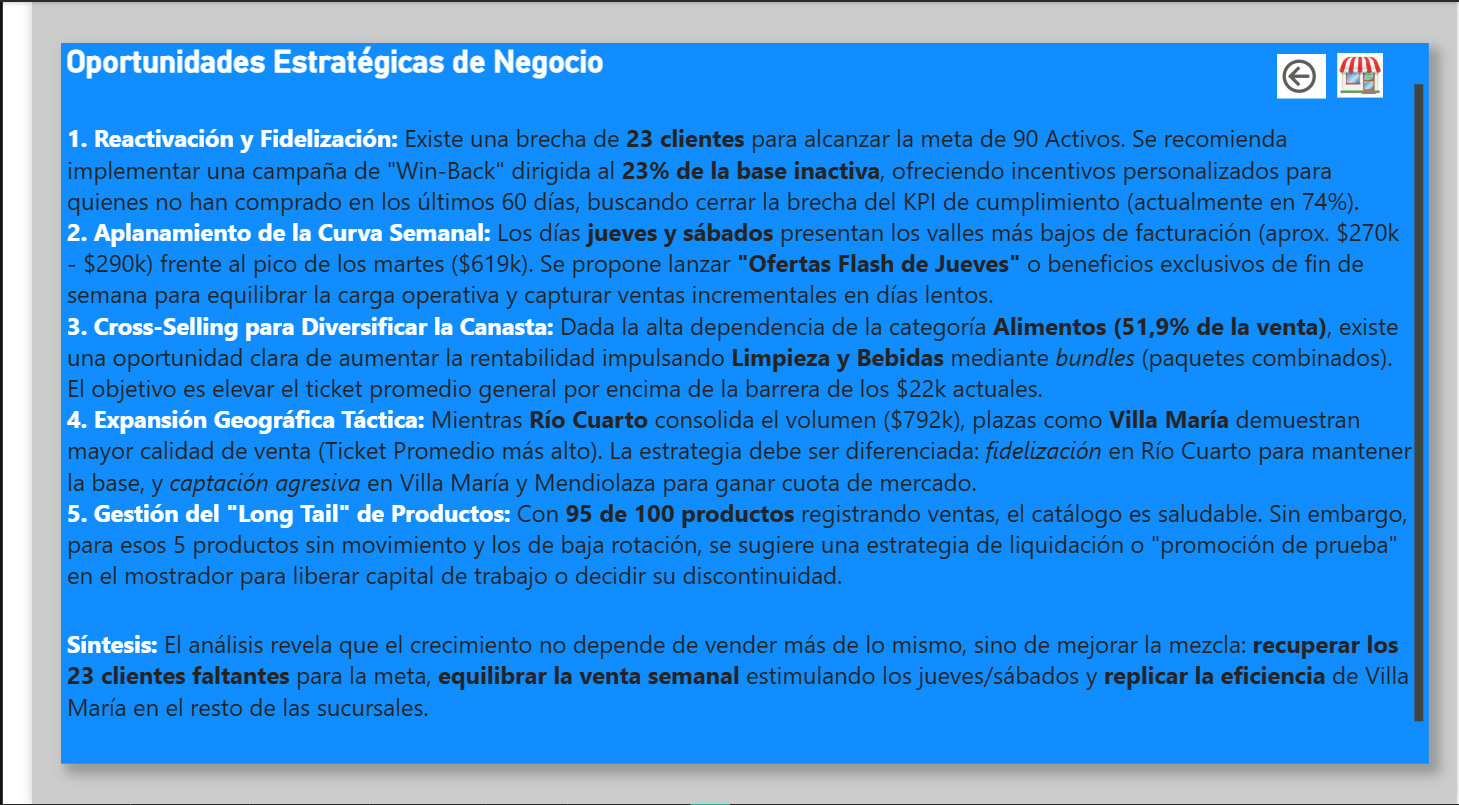

What the dashboard file says about the page in this screenshot:
{"tool":"powerbi","page":{"name":"Oportunidades","canvas":[1280,720],"ordinal":4},"visuals":[{"type":"textbox","title":"Oportunidades Estratégicas de Negocio","box":[26,36.8,1228.1,647.3],"z":0},{"type":"image","box":[1160.8,45.8,62.8,40.4],"z":1000},{"type":"actionButton","box":[1117.6,46.3,43.5,39.9],"z":2000}]}

Visuals, with their boxes in screenshot pixels (x1, y1, x2, y2), scaled from the page's 1280x720 canvas onto the 1459x805 screenshot:
"Oportunidades Estratégicas de Negocio" textbox: [30, 41, 1429, 765]
image: [1323, 51, 1395, 96]
actionButton: [1274, 52, 1323, 96]
